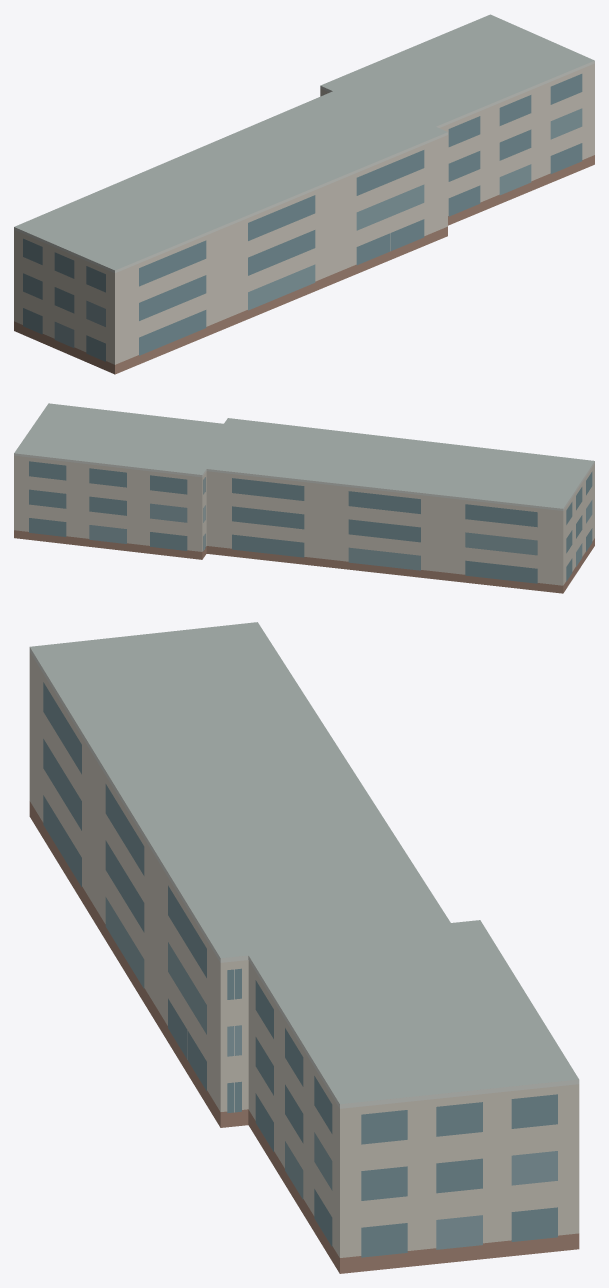
The model's file is survey-upis-32466688.glb.
The picture shows the model from 3 angles, top to bottom: view 1: azimuth 30°, elevation 25°; view 2: azimuth 150°, elevation 25°; view 3: azimuth 270°, elevation 25°; orthographic projection. The views are drawn at different scales.
Visible parts, largest first — view 1: survey-upis-32466688.tmp; view 2: survey-upis-32466688.tmp; view 3: survey-upis-32466688.tmp.
Boxes of the visible parts, bbox=[...] form: survey-upis-32466688.tmp: bbox=[14, 14, 594, 374]; survey-upis-32466688.tmp: bbox=[14, 403, 594, 593]; survey-upis-32466688.tmp: bbox=[29, 622, 579, 1273].
Size of the model in its own units: 55.81 by 9.15 by 26.89.
